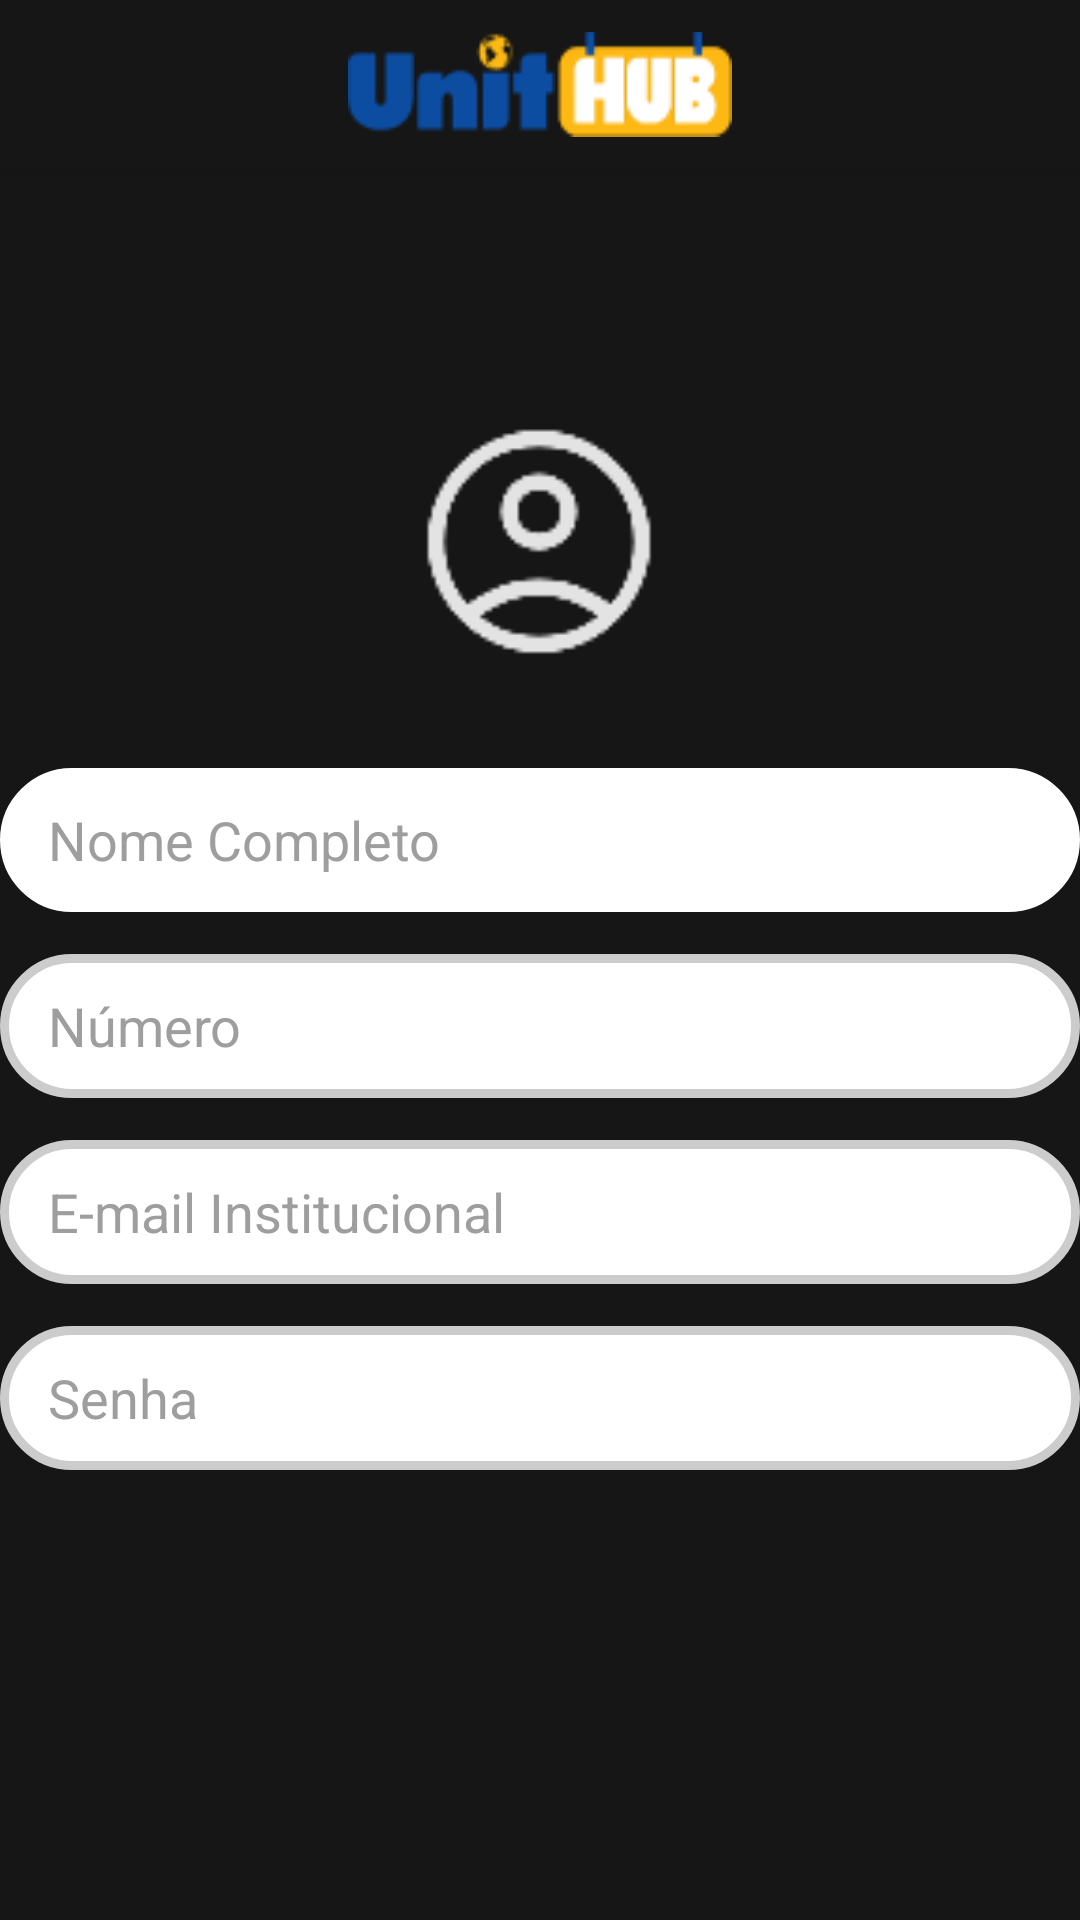

Locate icon controls on the screen. Image size 1080w x 1920h, boxes as (x1, y1, x2, y2).
profile: (427, 429, 651, 654)
